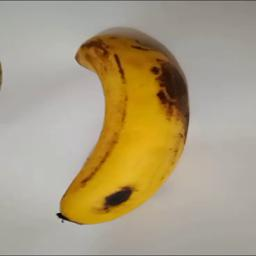Banana Semifresh: (59, 37, 191, 224)
